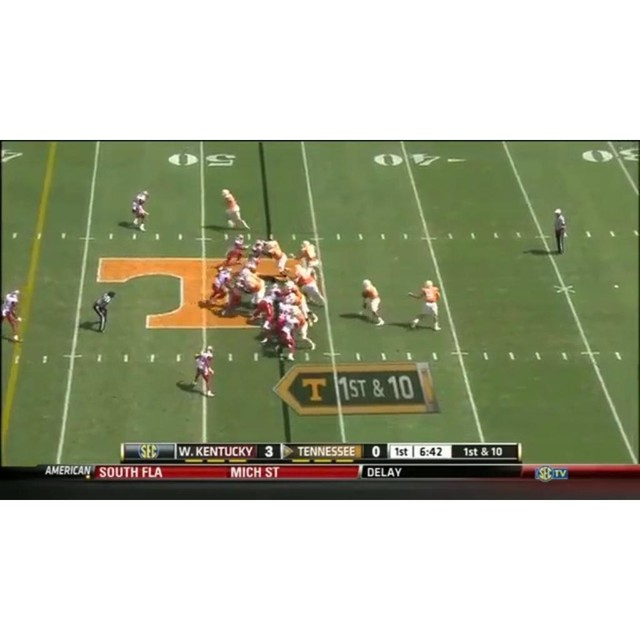american-football-player: (407, 279, 441, 331), (251, 291, 280, 345), (286, 301, 316, 352), (292, 262, 326, 305), (286, 281, 317, 324), (221, 189, 251, 231), (191, 345, 215, 397), (274, 312, 298, 363), (360, 278, 385, 326), (0, 289, 22, 343), (209, 267, 234, 304), (265, 239, 290, 275), (130, 190, 150, 231)
referee: (553, 209, 568, 255)
